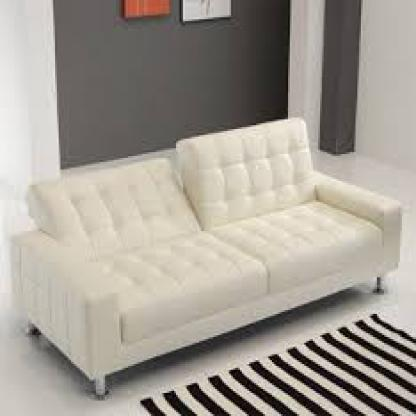sofa: (7, 118, 409, 387)
